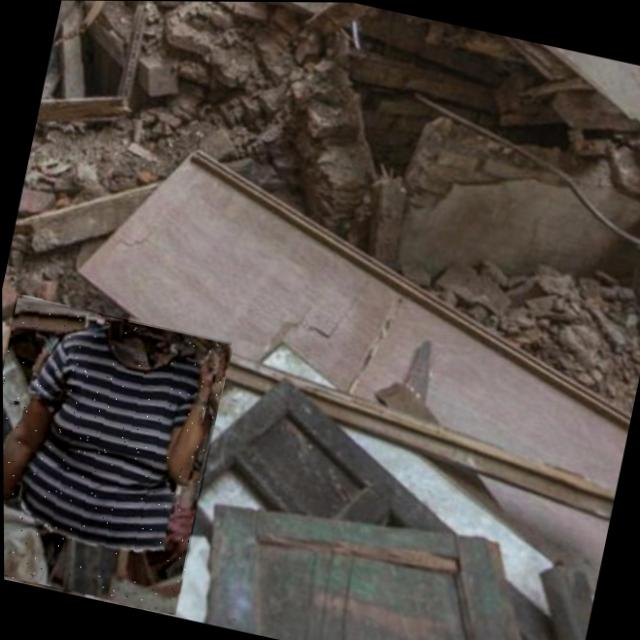Person in Rubble: (2, 294, 232, 615)
